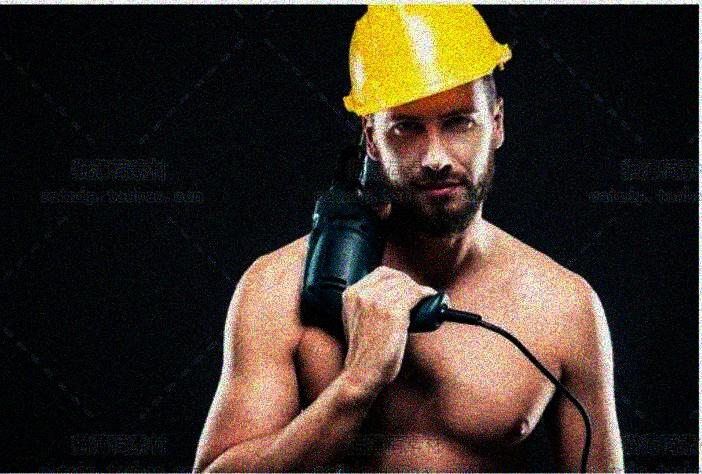helmet: (340, 1, 523, 233)
